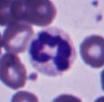N: (29, 27, 76, 76)
